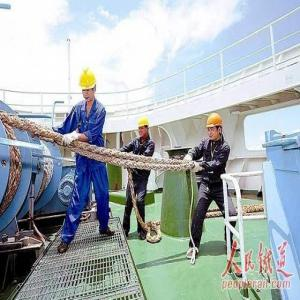yellow: (78, 68, 99, 104), (206, 112, 225, 144), (137, 116, 152, 141)
